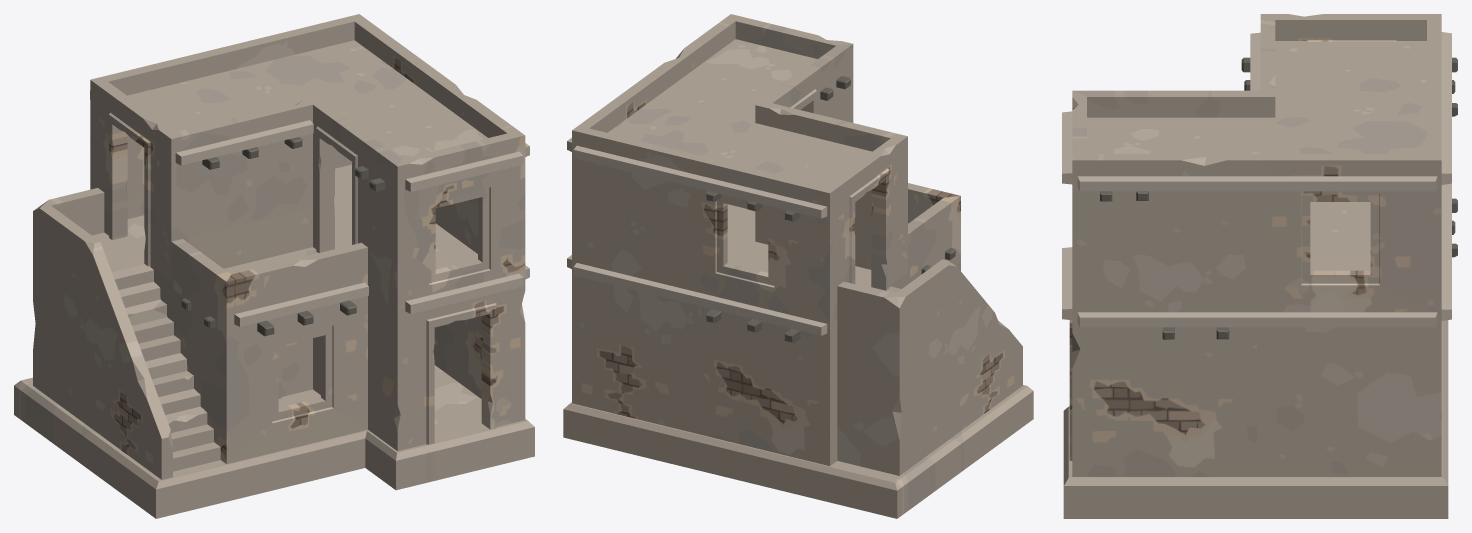
The model's file is SM_Bld_Village_House_02.fbx.
3 renders of one model, left to right at view 1: azimuth 30°, elevation 25°; view 2: azimuth 150°, elevation 25°; view 3: azimuth 270°, elevation 25°, orthographic. The views are drawn at different scales.
Parts seen in each view (by area): view 1: SM_Bld_Village_House_02; view 2: SM_Bld_Village_House_02; view 3: SM_Bld_Village_House_02.
Part boxes in pixels (box(x1,y1,x2,y2)): SM_Bld_Village_House_02: box(14, 14, 534, 518); SM_Bld_Village_House_02: box(563, 14, 1033, 518); SM_Bld_Village_House_02: box(1062, 14, 1457, 518).
Size of the model in its own units: 781 by 674 by 680.
